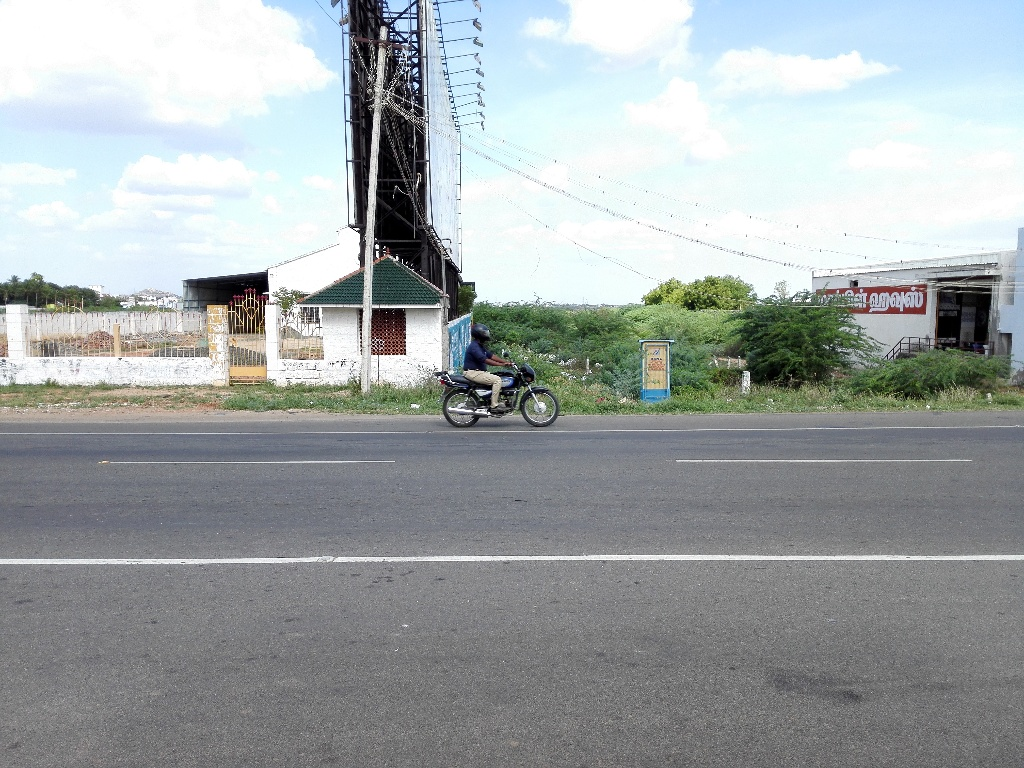biker: (422, 291, 578, 445)
helmet: (466, 312, 498, 355)
